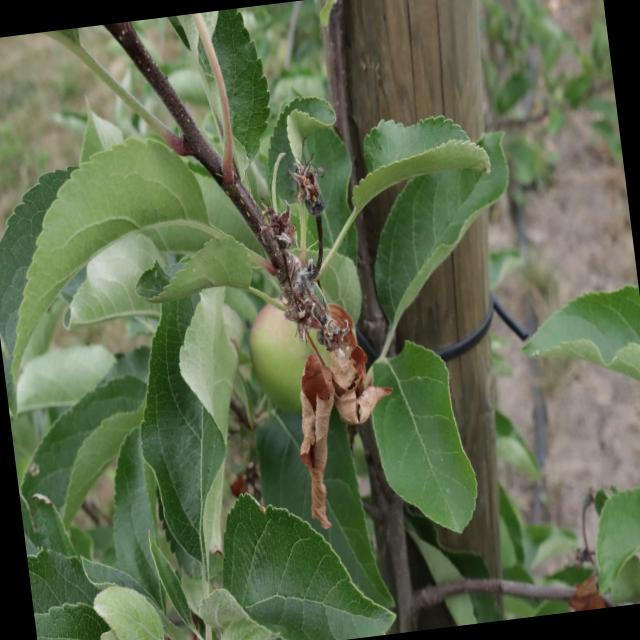-FireBlight-: (272, 301, 406, 534)
